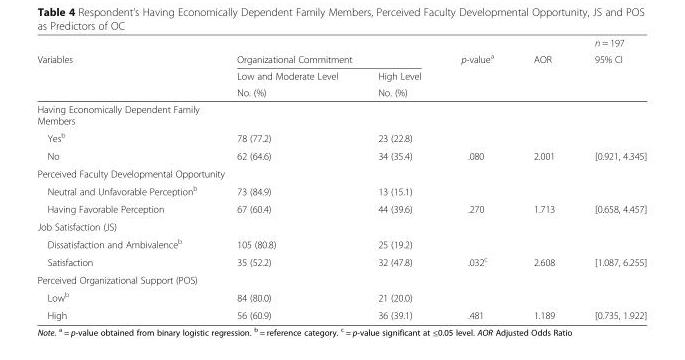table: (36, 36, 646, 320)
table column: (36, 36, 216, 320), (216, 36, 357, 320), (357, 36, 440, 320), (440, 36, 513, 320), (574, 36, 646, 320), (513, 36, 574, 320)
table column header: (36, 36, 646, 100)
table projected row header: (36, 100, 646, 128), (36, 164, 646, 181), (36, 217, 646, 234), (36, 270, 646, 287)
table row: (36, 100, 646, 128), (36, 287, 646, 306), (36, 49, 646, 67), (36, 128, 646, 146), (36, 146, 646, 164), (36, 181, 646, 199), (36, 199, 646, 217), (36, 234, 646, 252), (36, 252, 646, 270), (36, 83, 646, 100), (36, 164, 646, 181), (36, 217, 646, 234), (36, 270, 646, 287), (36, 67, 646, 83), (36, 306, 646, 320), (36, 36, 646, 49)
table spanning cell: (36, 36, 216, 100), (440, 36, 513, 100), (216, 67, 357, 100), (574, 36, 646, 100), (216, 49, 440, 67), (513, 36, 574, 100), (357, 67, 440, 100)
